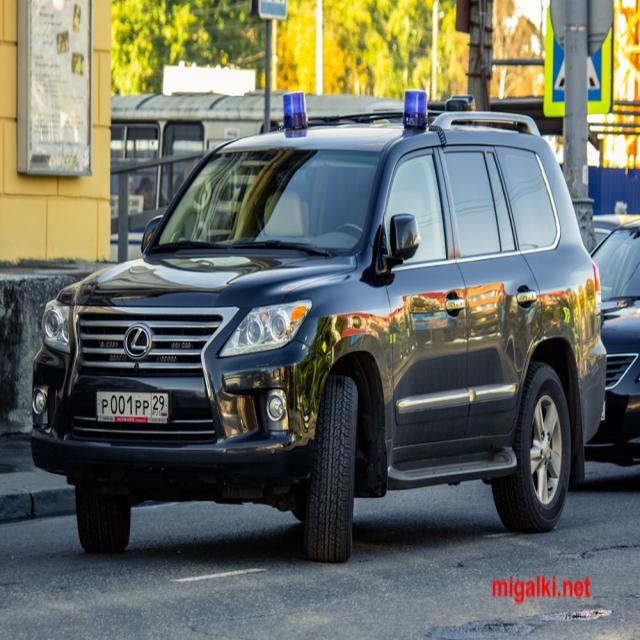number-plates: (94, 390, 171, 427)
